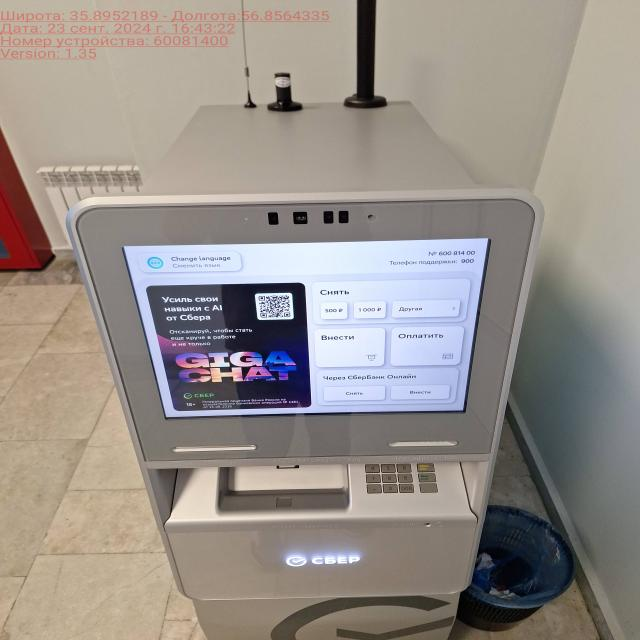bank: (65, 102, 549, 640)
